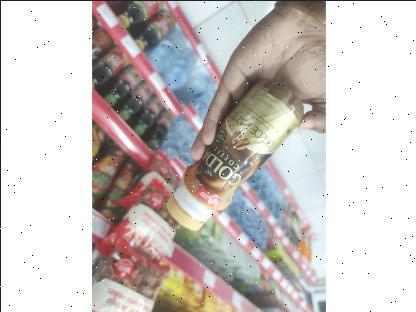Plastic Bottle: (155, 69, 321, 239)
